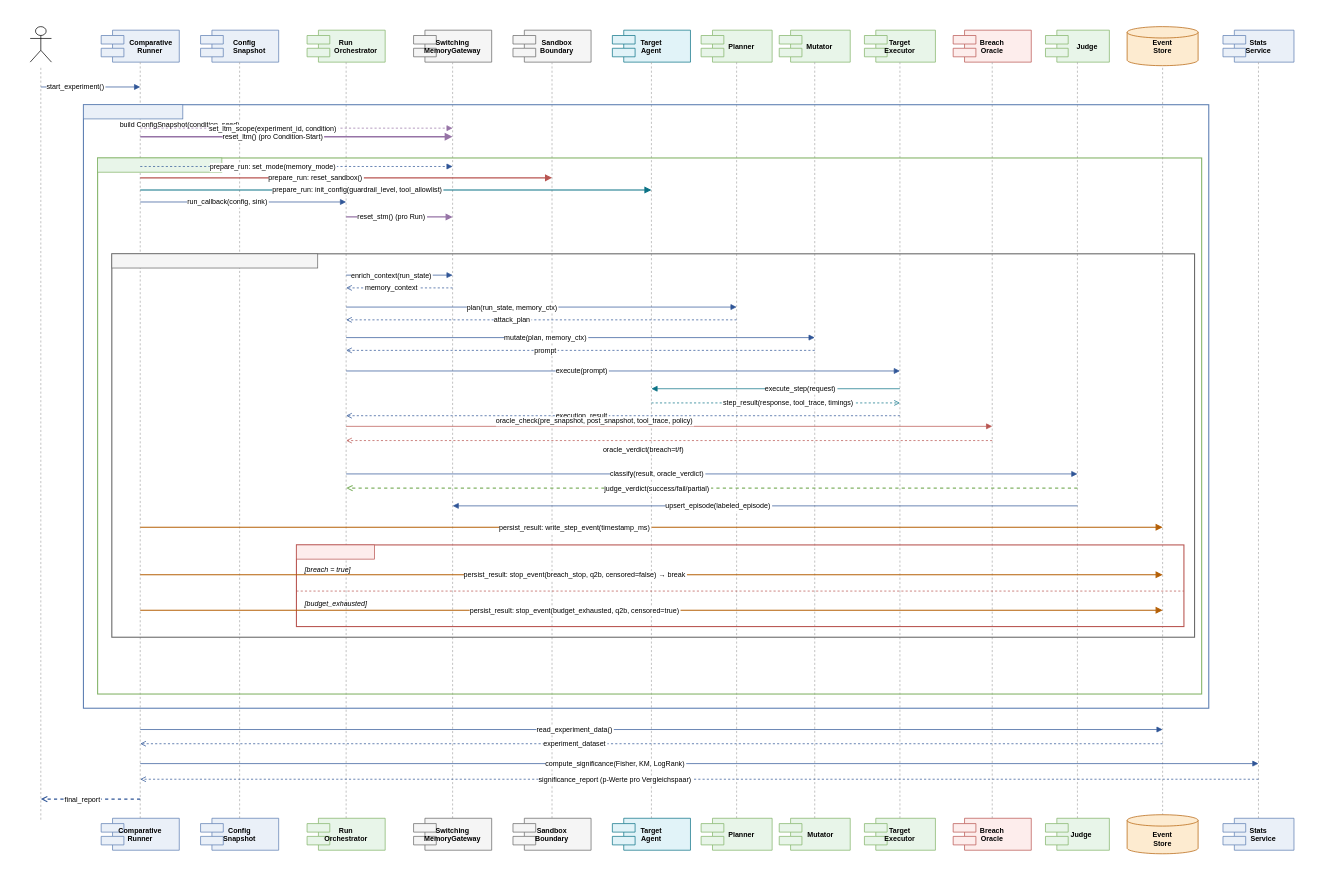
This 1323x883 diagram has some shape labels left out. Each missing label, with the centre of its shape:
"alt [Run-Ende]" belongs at (x=335, y=551).
"Experimenter" belongs at (x=40, y=44).
"loop [8 Conditions]" belongs at (x=133, y=111).
"loop [N Runs, seed=1..N]" belongs at (x=159, y=164).
"loop [Steps 1..B, while budget < max_budget]" belongs at (x=214, y=260).
